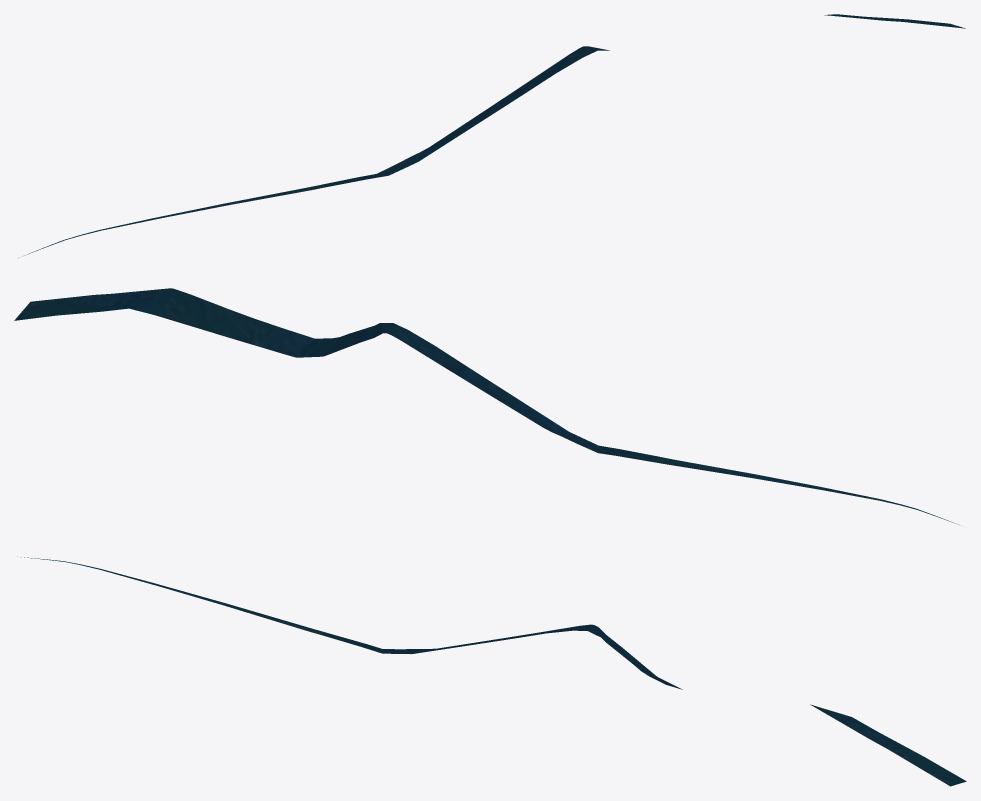
File: Tile_+007_+008_L19_00020.glb
3 renders of one model, top to bottom at view 1: azimuth 30°, elevation 25°; view 2: azimuth 150°, elevation 25°; view 3: azimuth 330°, elevation 25°, orthographic.
Parts seen in each view (by area): view 1: rtc; view 2: rtc; view 3: rtc.
Part boxes in pixels (box(x1,y1,x2,y2)): rtc: box(24, 14, 965, 255); rtc: box(14, 288, 958, 524); rtc: box(17, 556, 966, 786).
Size of the model in its own units: 27.22 by 2.06 by 0.8552.
Materials: 1 (1 with a texture image).
